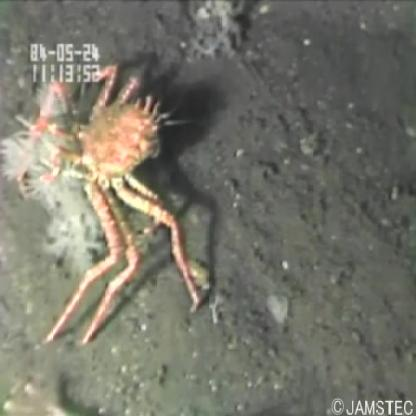Bio: (1, 58, 207, 352)
